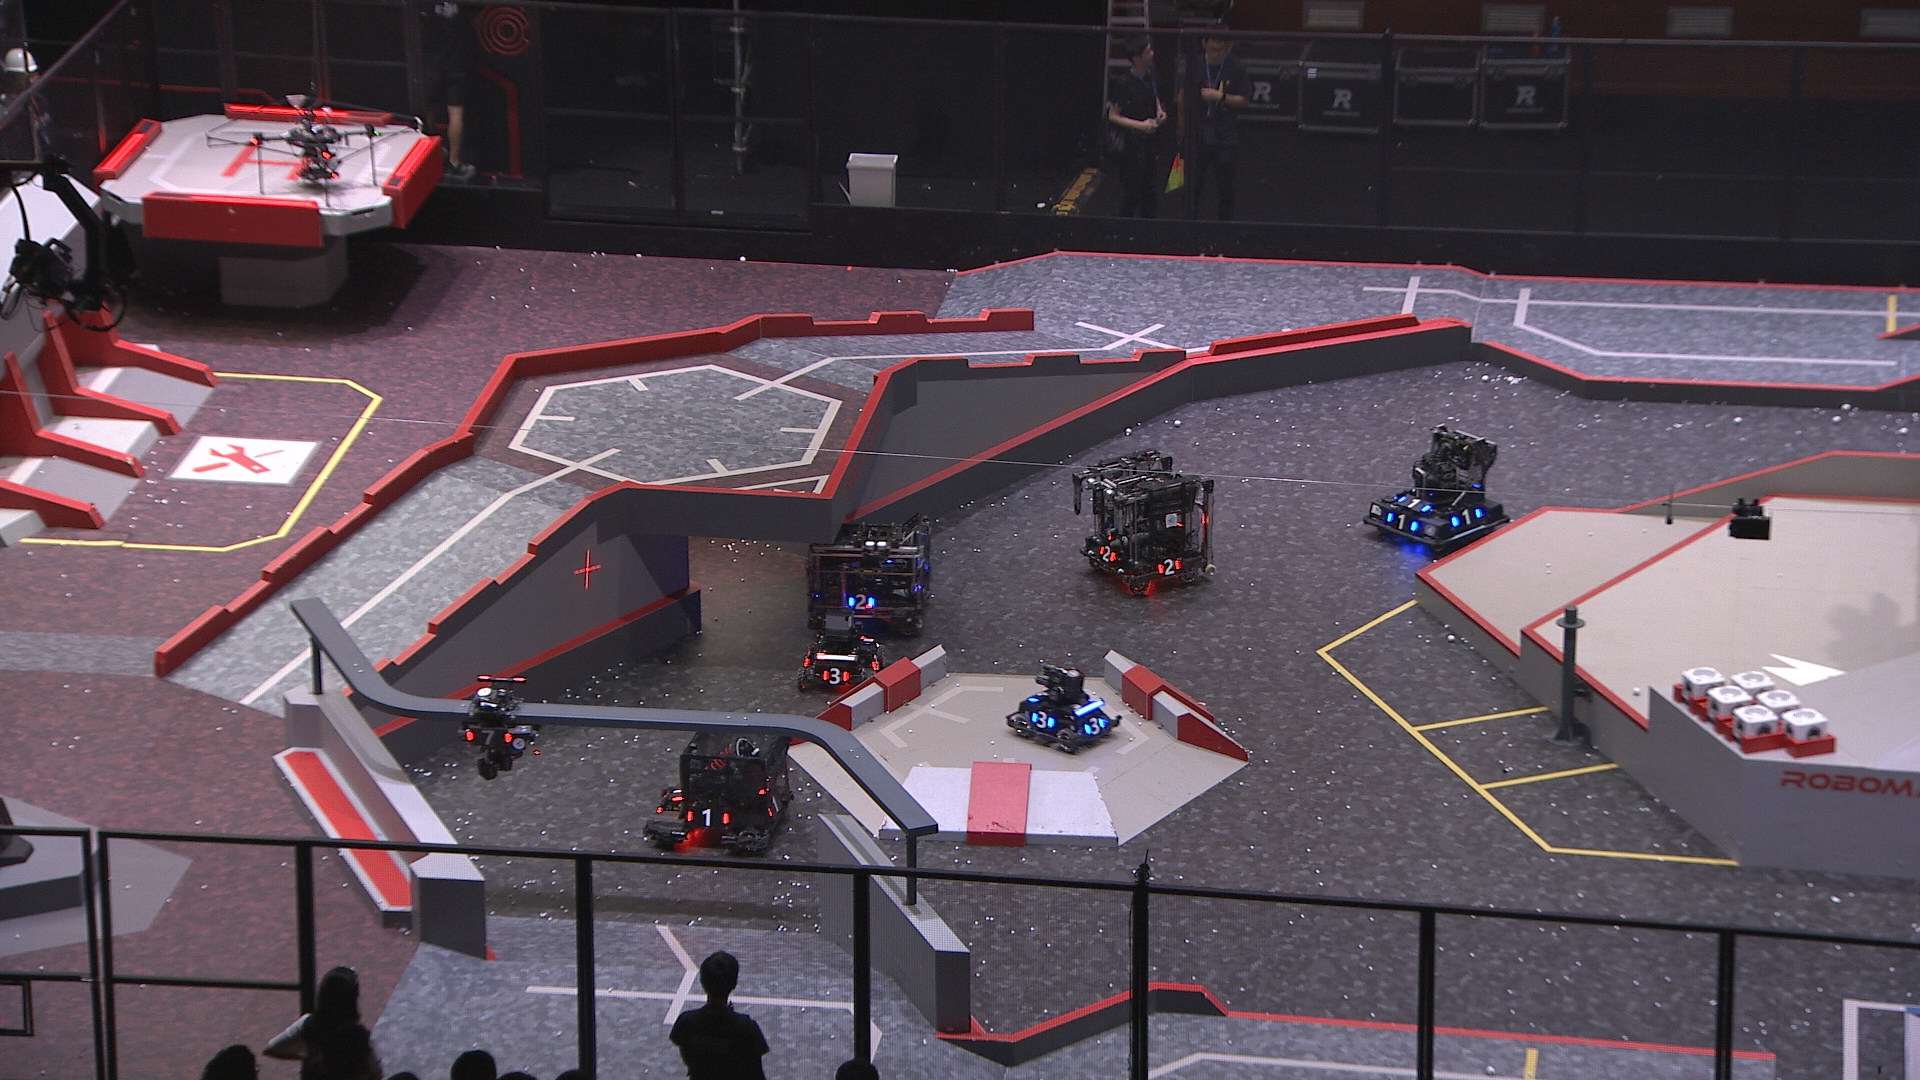armor: (684, 807, 732, 828), (1382, 510, 1420, 534), (465, 728, 513, 746), (1447, 504, 1484, 527), (1154, 555, 1182, 579), (820, 666, 851, 687), (1030, 709, 1058, 732), (1396, 493, 1429, 512), (764, 793, 785, 820), (1081, 713, 1106, 736), (845, 589, 874, 608), (1025, 684, 1051, 704), (1096, 542, 1117, 564), (669, 782, 688, 804), (866, 651, 884, 674)
car: (641, 712, 799, 861), (1073, 447, 1220, 593), (1365, 425, 1513, 555), (804, 508, 932, 636), (1005, 661, 1122, 756), (794, 609, 887, 698)
watcher: (458, 673, 539, 781)
